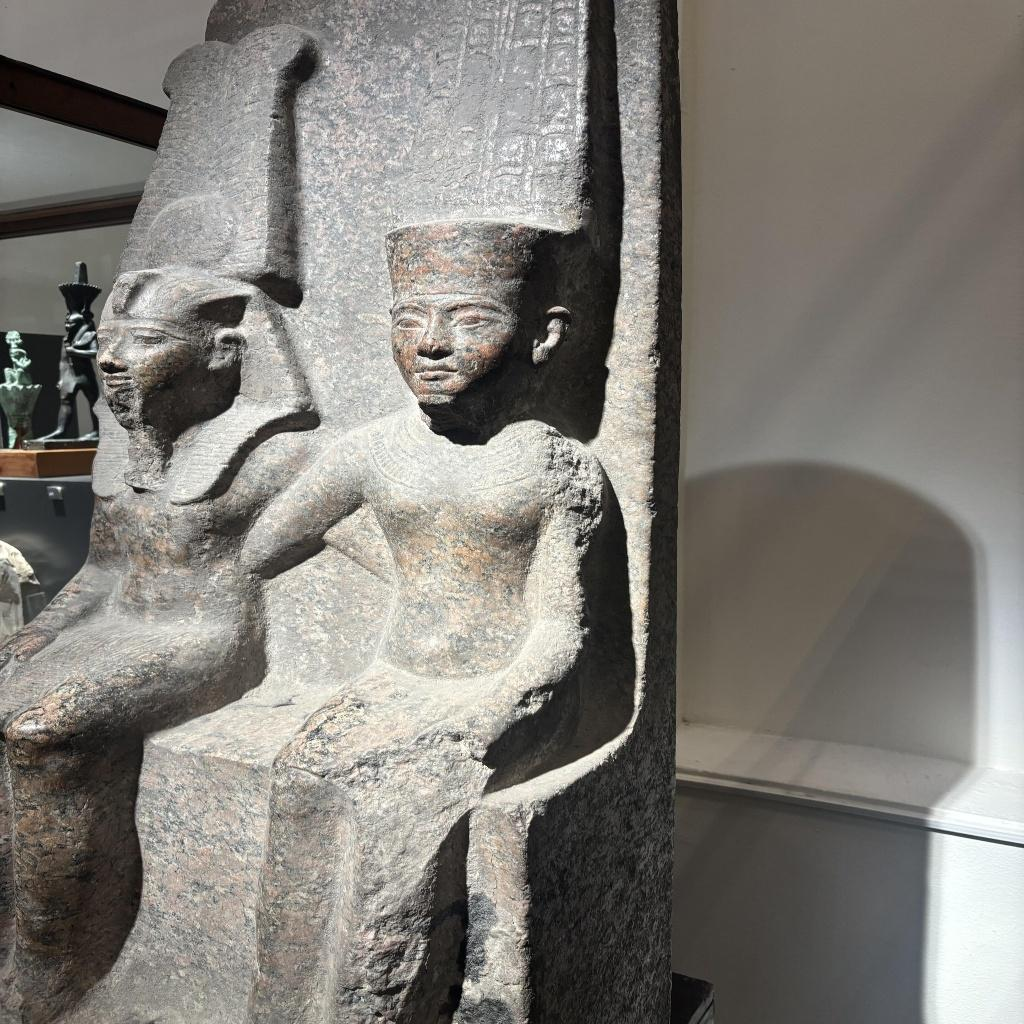Statue of Amun and King: (0, 0, 673, 1018)
